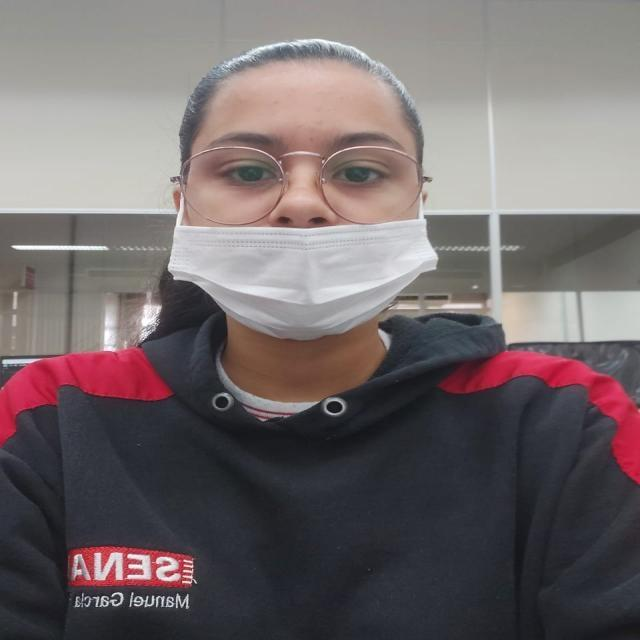hairnet: (190, 56, 418, 322)
